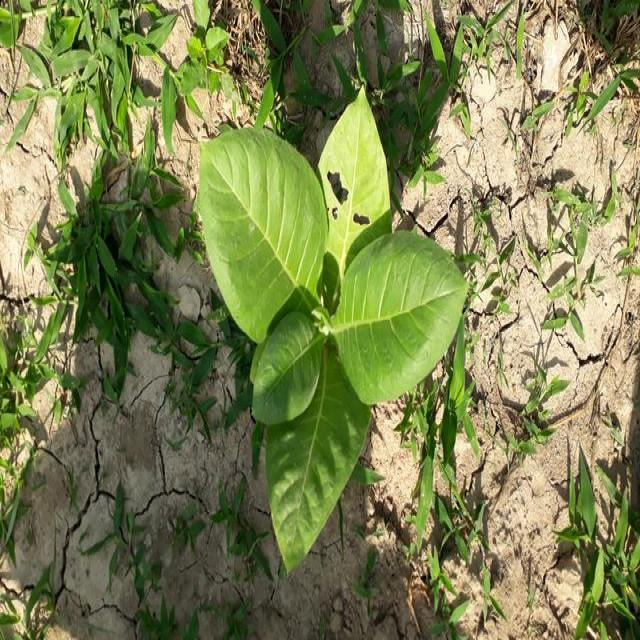crop: (194, 93, 465, 565)
